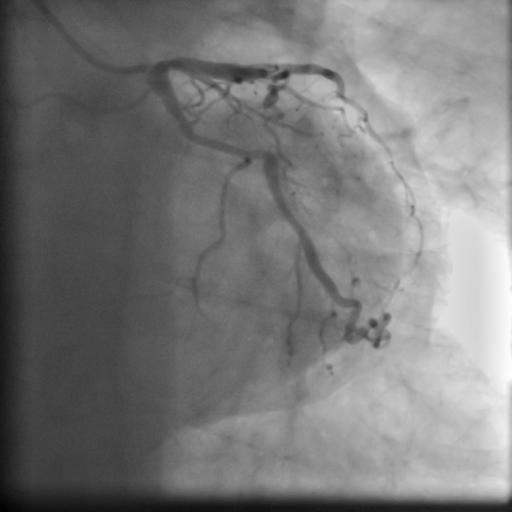Stenosis: (246, 145, 270, 167)
